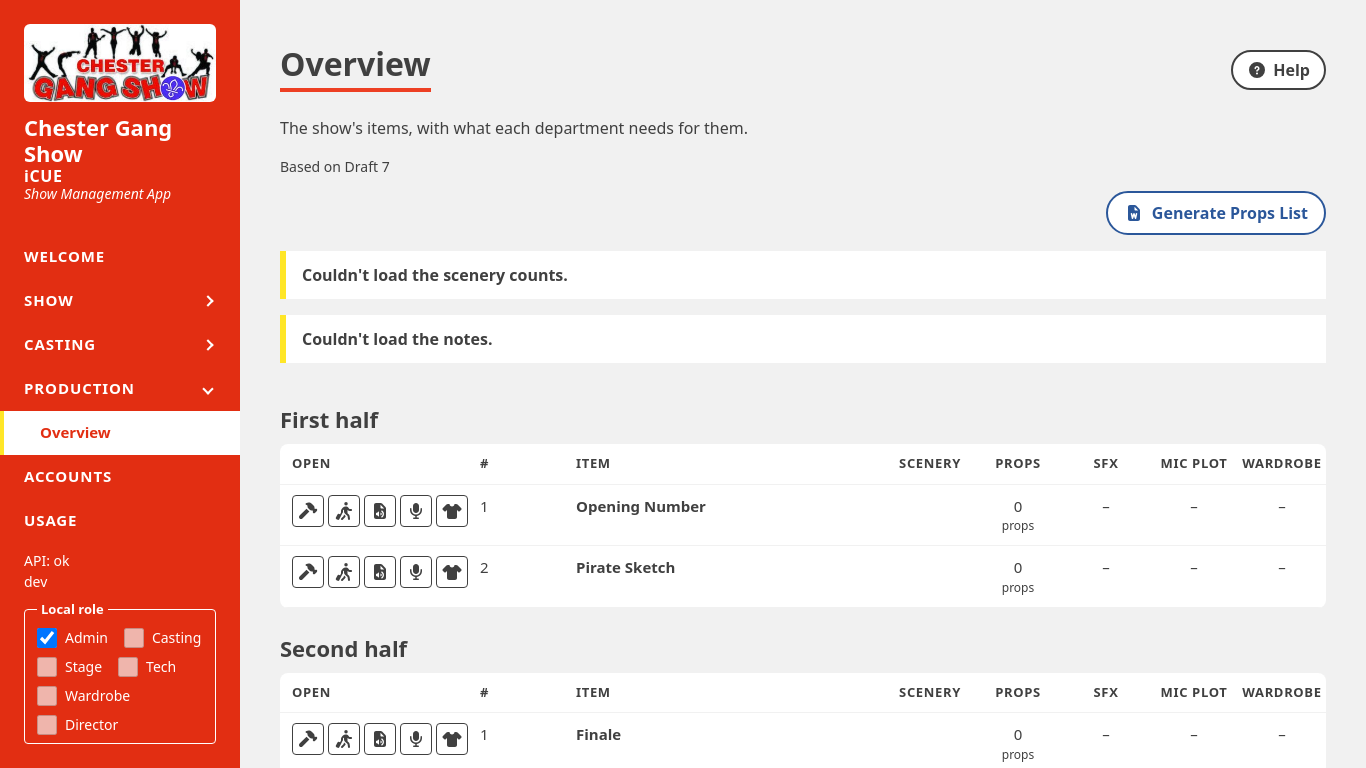
Test case: A department's item page › opens the Wardrobe page for the item, titled for both, coming soon
Step 1. Click the 5th link with class "icon-button" → (452, 510), box [436,494,468,526]
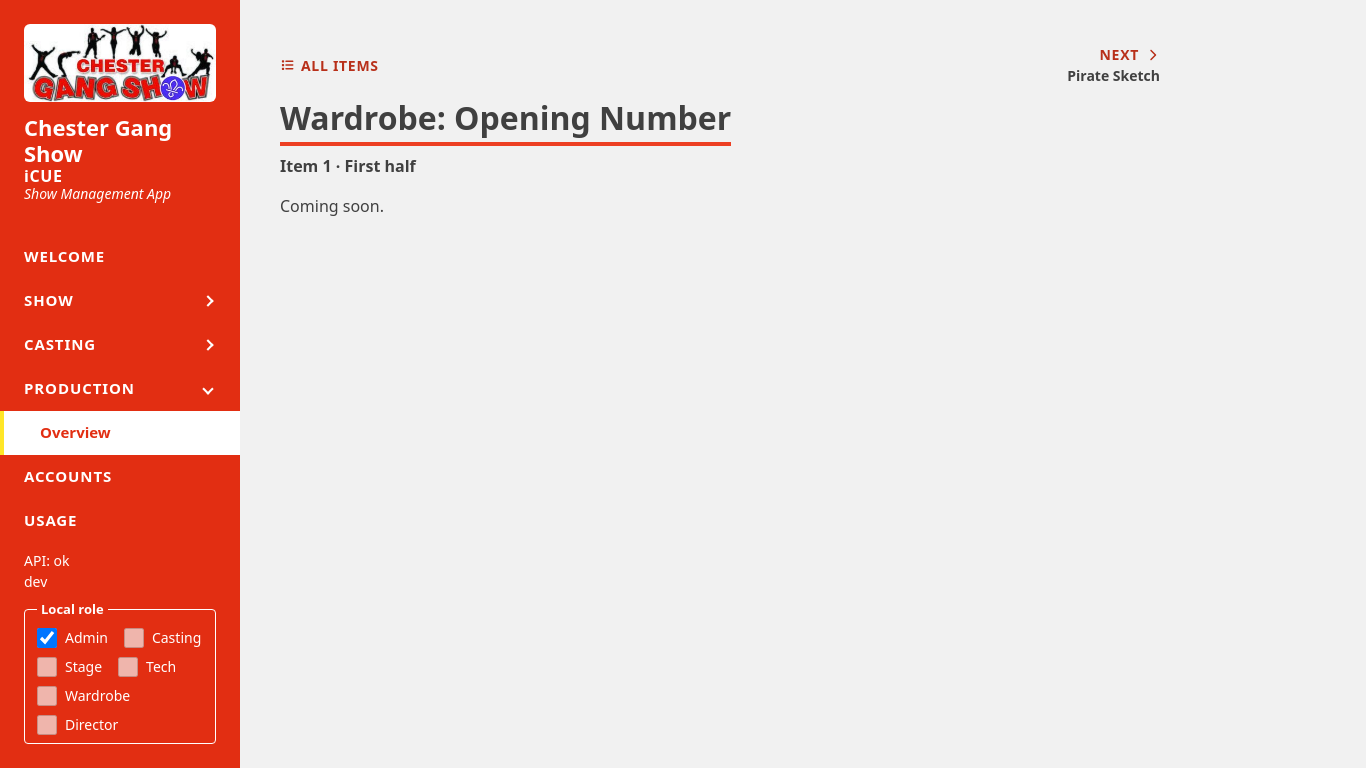
Check: the element that starts with "All items" shows "Coming soon", box [280,195,384,217]
